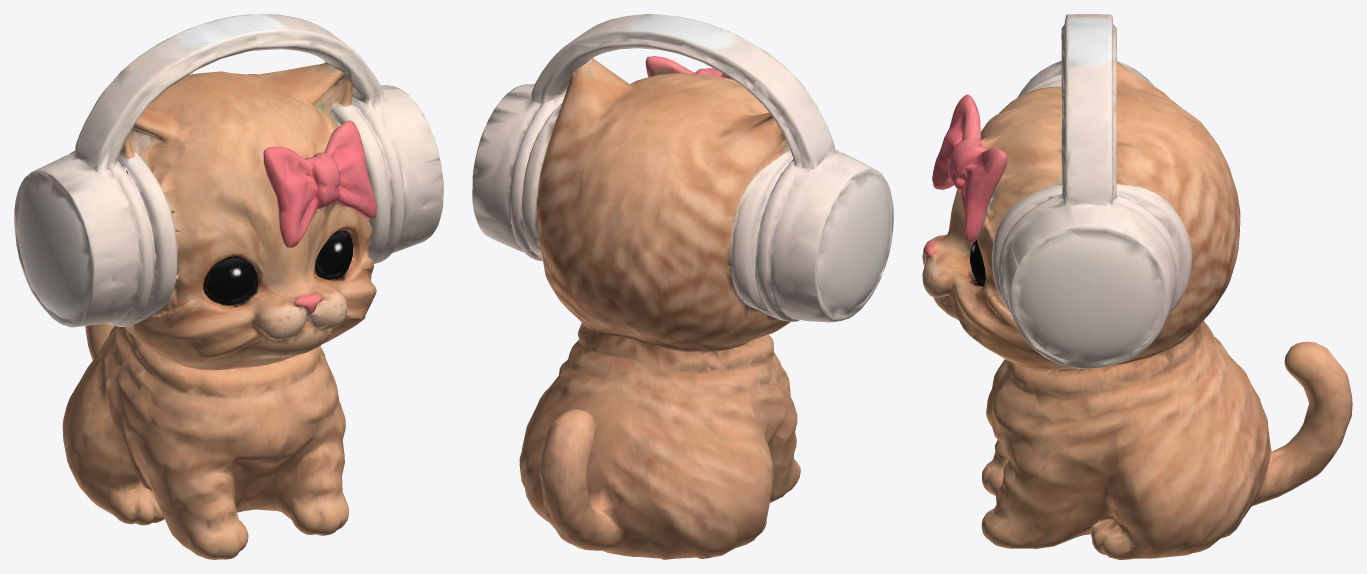
Rendered from kitten.glb.
The picture shows the model from 3 angles, left to right: view 1: azimuth 30°, elevation 25°; view 2: azimuth 150°, elevation 25°; view 3: azimuth 270°, elevation 25°; orthographic projection.
Parts seen in each view (by area): view 1: mesh_0; view 2: mesh_0; view 3: mesh_0.
Boxes of the visible parts, x1,y1,x2,y2 form: mesh_0: [14, 14, 443, 559]; mesh_0: [472, 14, 893, 559]; mesh_0: [922, 14, 1352, 559].
Bounding box in the file's own units: 1.09 × 1.34 × 1.09.
Materials: 1 (1 with a texture image).
